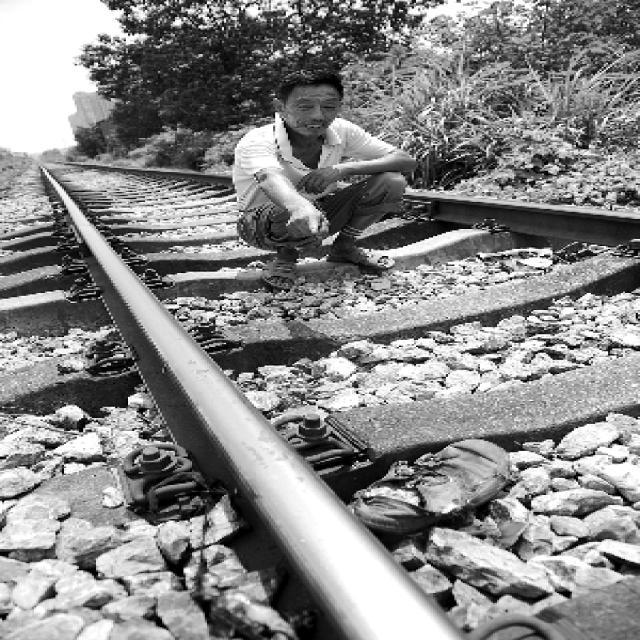people: (230, 66, 428, 290)
